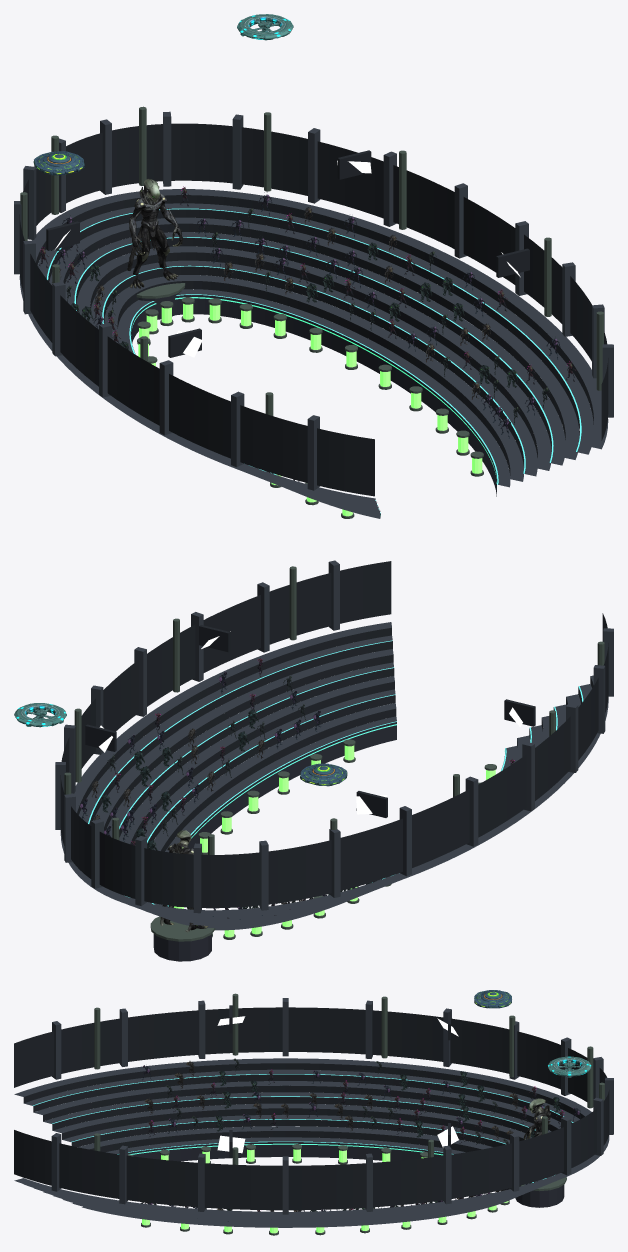
The model's file is arena-base.glb.
The picture shows the model from 3 angles, top to bottom: view 1: azimuth 30°, elevation 25°; view 2: azimuth 150°, elevation 25°; view 3: azimuth 270°, elevation 25°; orthographic projection. The views are drawn at different scales.
Parts seen in each view (by area): view 1: graderio, muro, tubos, brillo_franjas, jefe, publico_1, soportes, publico_2, brillo_vainas, publico_0, peanas, platillo_1 (+2 smaller); view 2: muro, graderio, tubos, soportes, brillo_franjas, pedestal, publico_1, publico_2, publico_0, brillo_vainas, peanas, platillo_1 (+2 smaller); view 3: muro, graderio, tubos, brillo_franjas, publico_0, publico_1, publico_2, brillo_vainas, pedestal, peanas, platillo_1, platillo_0 (+2 smaller).
Boxes of the visible parts, <box> form: graderio: <box>19,189,608,518</box>; muro: <box>14,111,613,496</box>; tubos: <box>20,106,603,415</box>; brillo_franjas: <box>47,208,581,515</box>; jefe: <box>127,178,183,288</box>; publico_1: <box>62,206,560,438</box>; soportes: <box>46,150,529,357</box>; publico_2: <box>38,186,575,481</box>; brillo_vainas: <box>138,303,482,516</box>; publico_0: <box>51,192,550,475</box>; peanas: <box>137,297,483,518</box>; platillo_1: <box>237,14,293,40</box>; muro: <box>55,560,613,913</box>; graderio: <box>60,622,608,930</box>; tubos: <box>64,566,604,854</box>; soportes: <box>85,625,535,817</box>; brillo_franjas: <box>88,640,583,906</box>; pedestal: <box>150,916,215,961</box>; publico_1: <box>93,671,375,919</box>; publico_2: <box>80,658,514,909</box>; publico_0: <box>92,674,381,915</box>; brillo_vainas: <box>174,745,495,937</box>; peanas: <box>176,739,496,939</box>; platillo_1: <box>14,703,66,727</box>; muro: <box>14,998,613,1214</box>; graderio: <box>14,1058,609,1227</box>; tubos: <box>94,993,604,1164</box>; brillo_franjas: <box>32,1074,573,1182</box>; publico_0: <box>141,1061,560,1211</box>; publico_1: <box>148,1061,580,1211</box>; publico_2: <box>144,1058,536,1221</box>; brillo_vainas: <box>142,1149,508,1233</box>; pedestal: <box>515,1177,566,1207</box>; peanas: <box>128,1144,509,1235</box>; platillo_1: <box>548,1056,591,1077</box>; platillo_0: <box>474,990,511,1008</box>.
Bounding box in the file's own units: 70.22 × 37.36 × 110.
15 materials, 8 textured.
